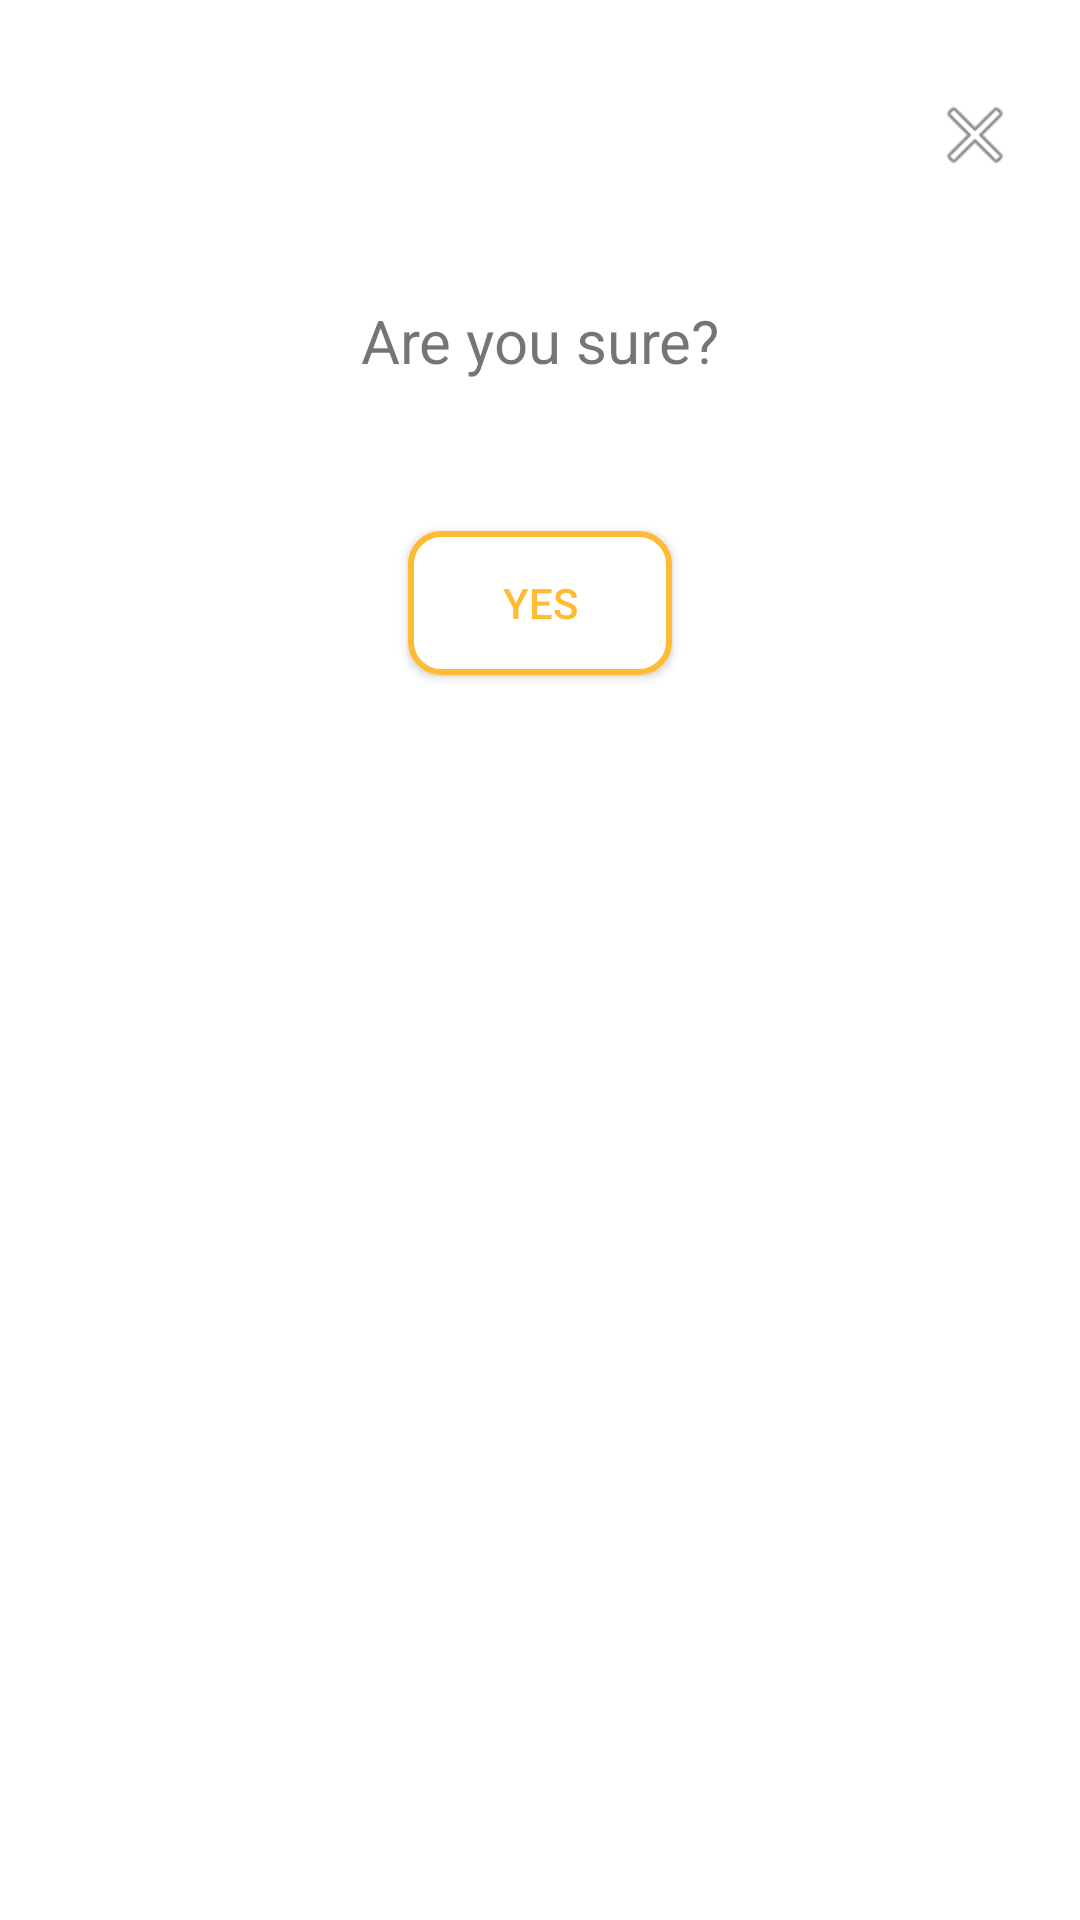

Icons on this 1080x1920 Android screen, each with the point to tap as (x=x, y=y):
close clear cancel: (x=975, y=135)
